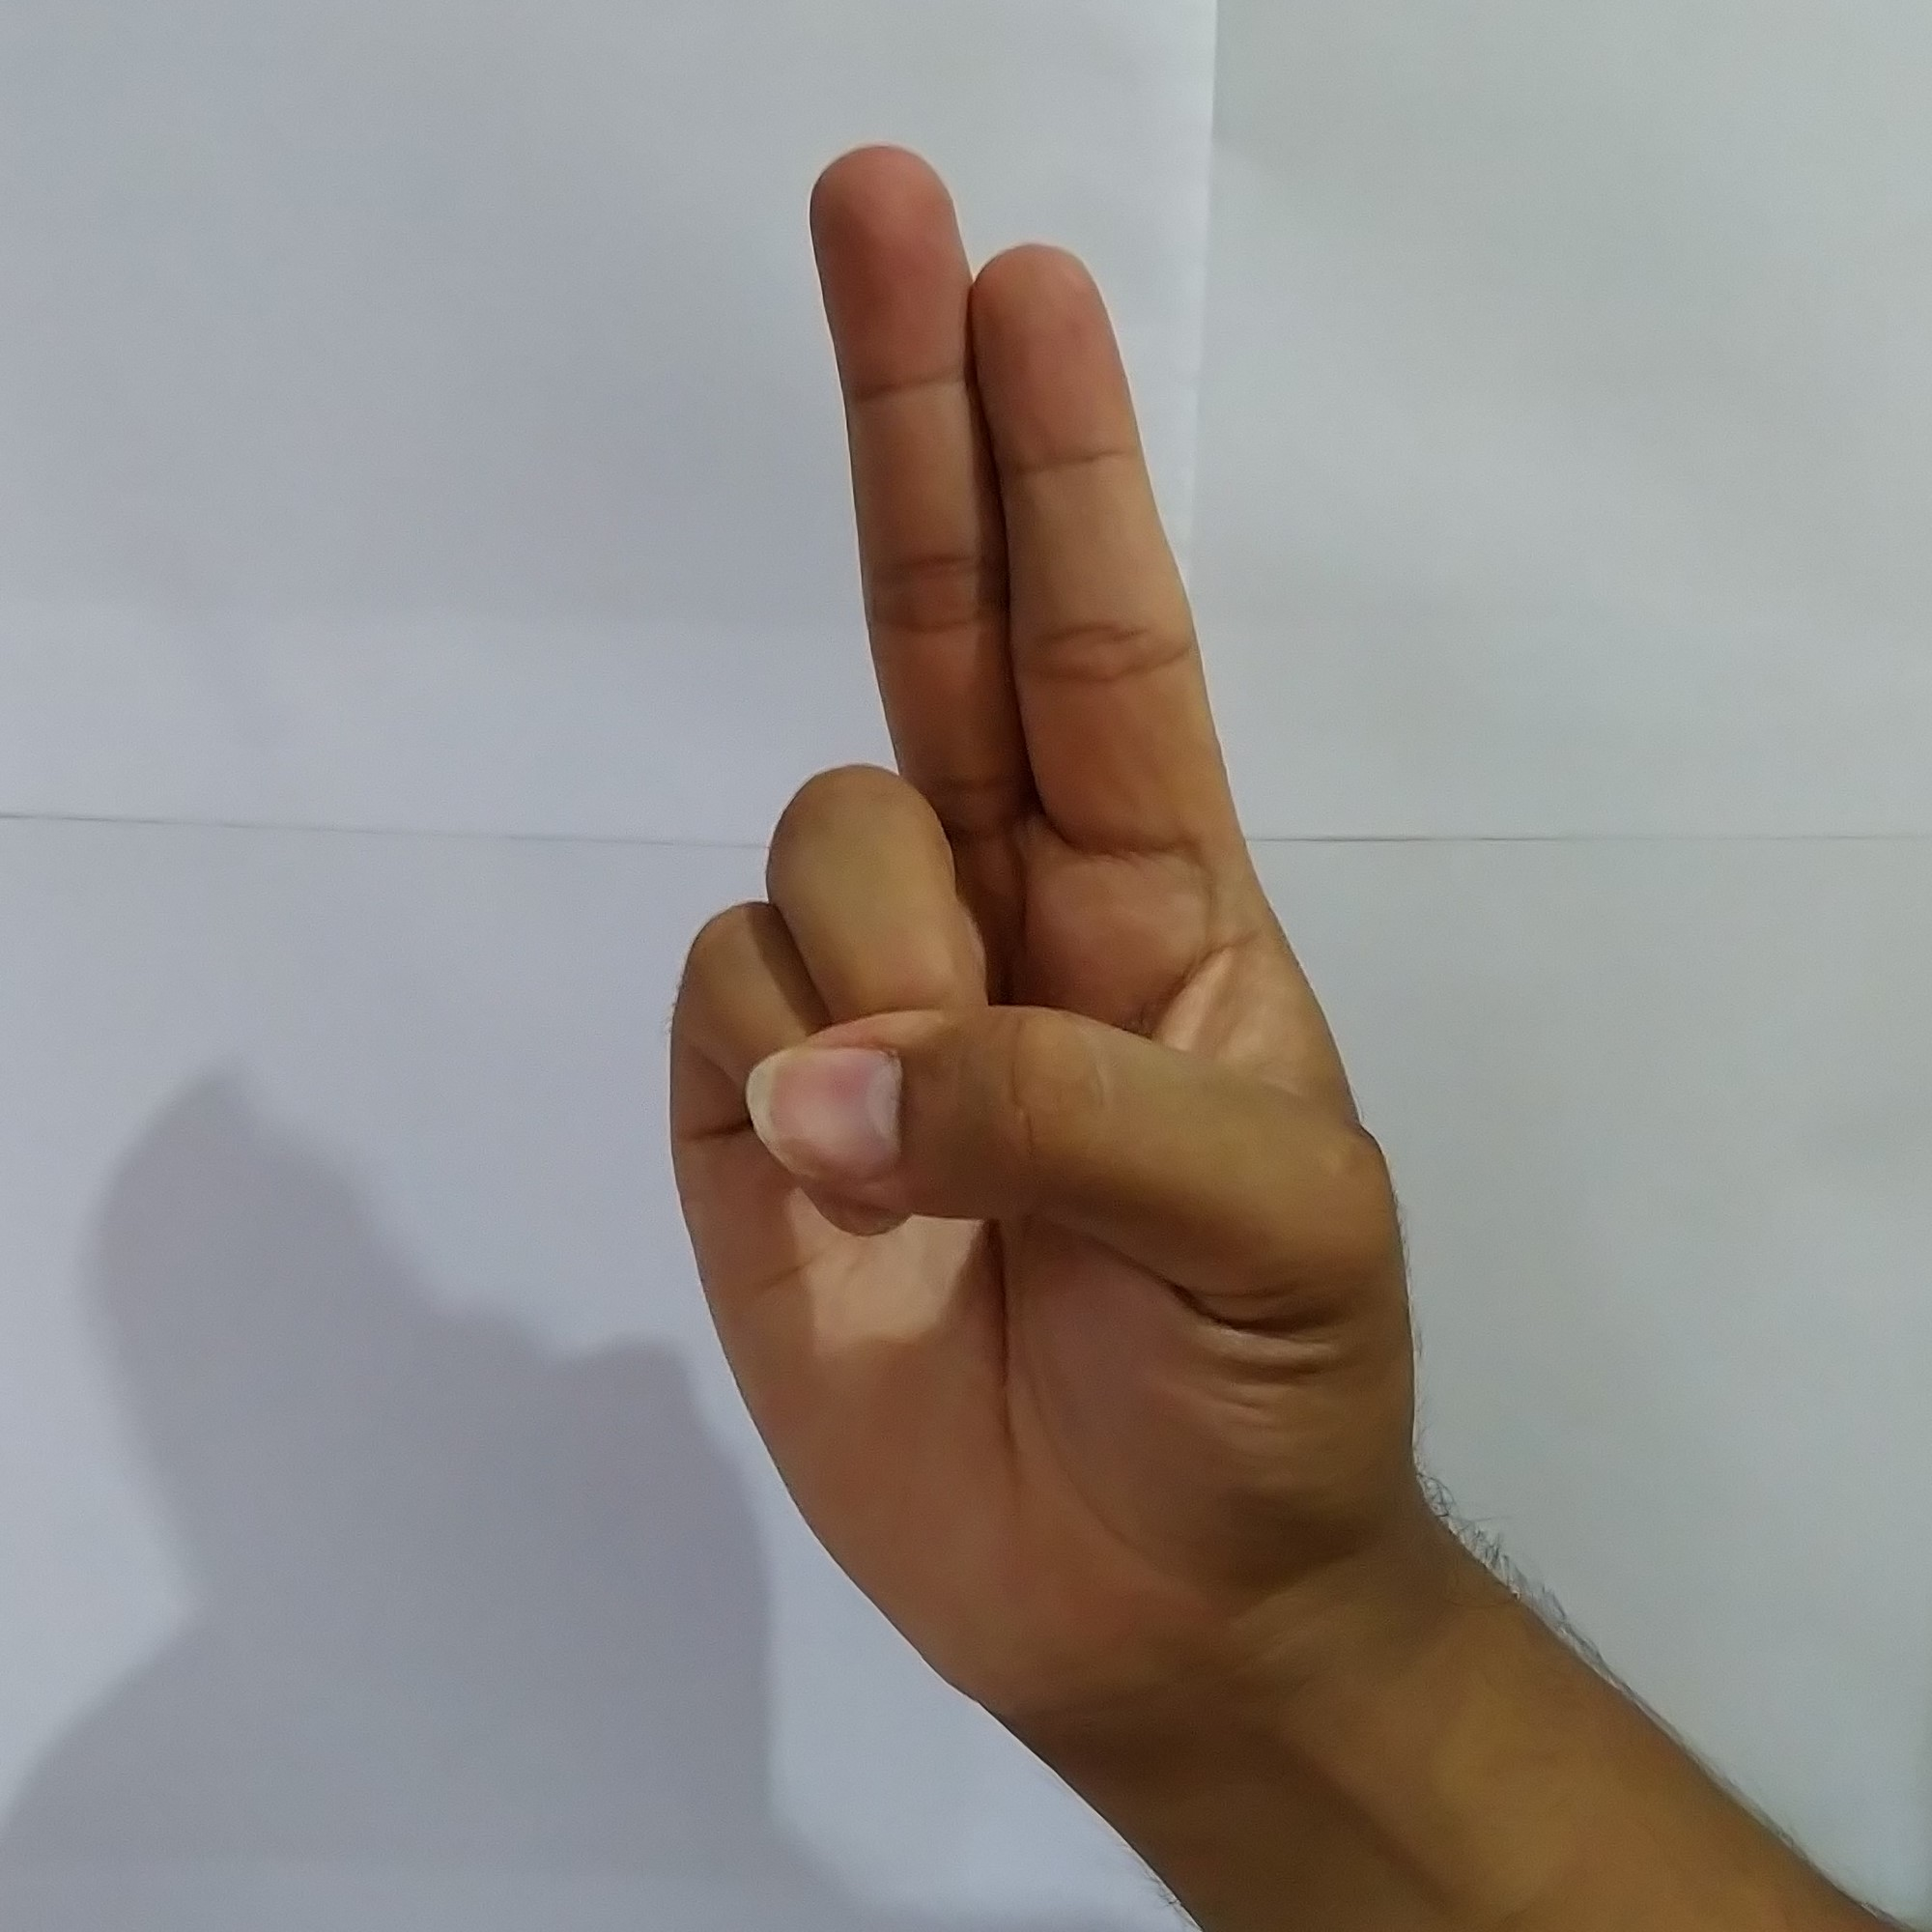U: (619, 111, 1562, 1654)
